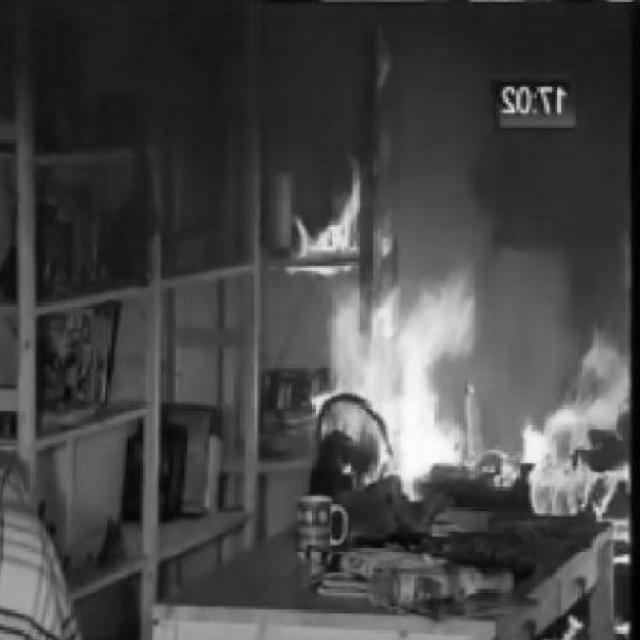smoke: (326, 274, 494, 490), (511, 304, 640, 540), (292, 158, 368, 260)
